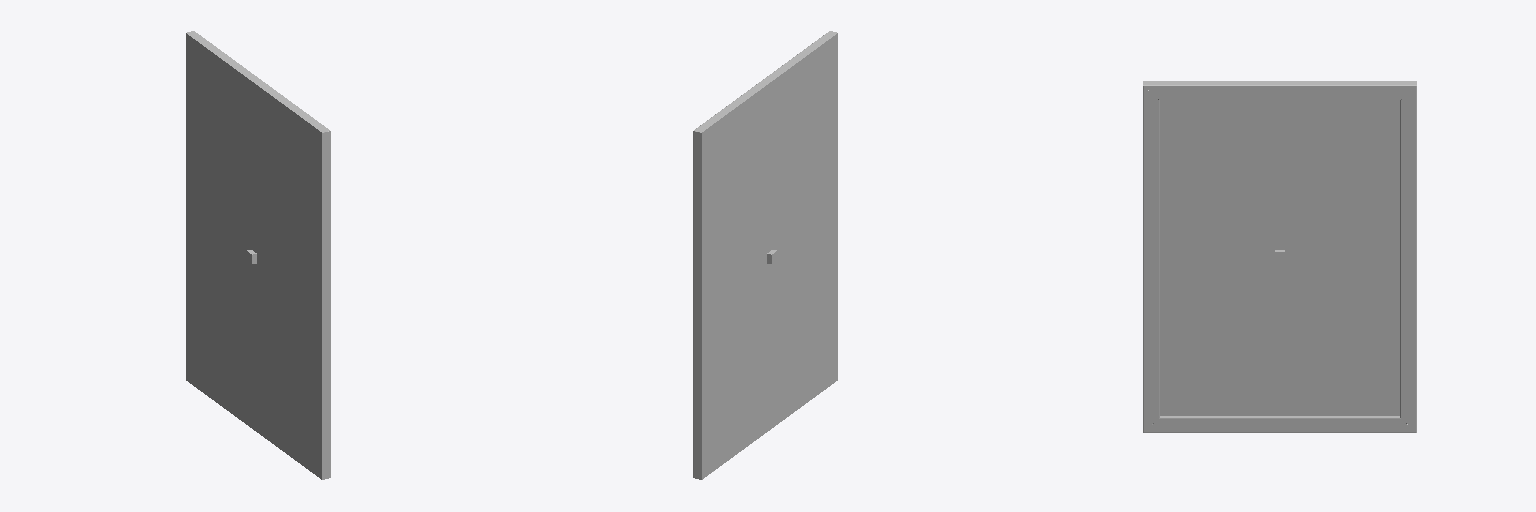
File: wall_frame.obj
3 views of the same model, side by side, from view 1: azimuth 30°, elevation 25°; view 2: azimuth 150°, elevation 25°; view 3: azimuth 270°, elevation 25° (orthographic).
Visible parts, largest first — view 1: Box046_Material_#25_0; view 2: Box046_Material_#25_0; view 3: Box046_Material_#25_0, Box046_Frame_0.
Part boxes in pixels (left/top/right/bottom): Box046_Material_#25_0: left=186, top=31, right=330, bottom=479; Box046_Material_#25_0: left=693, top=31, right=837, bottom=479; Box046_Material_#25_0: left=1143, top=81, right=1416, bottom=432; Box046_Frame_0: left=1160, top=100, right=1399, bottom=415.
Size of the model in its own units: 2.85 by 70 by 50.